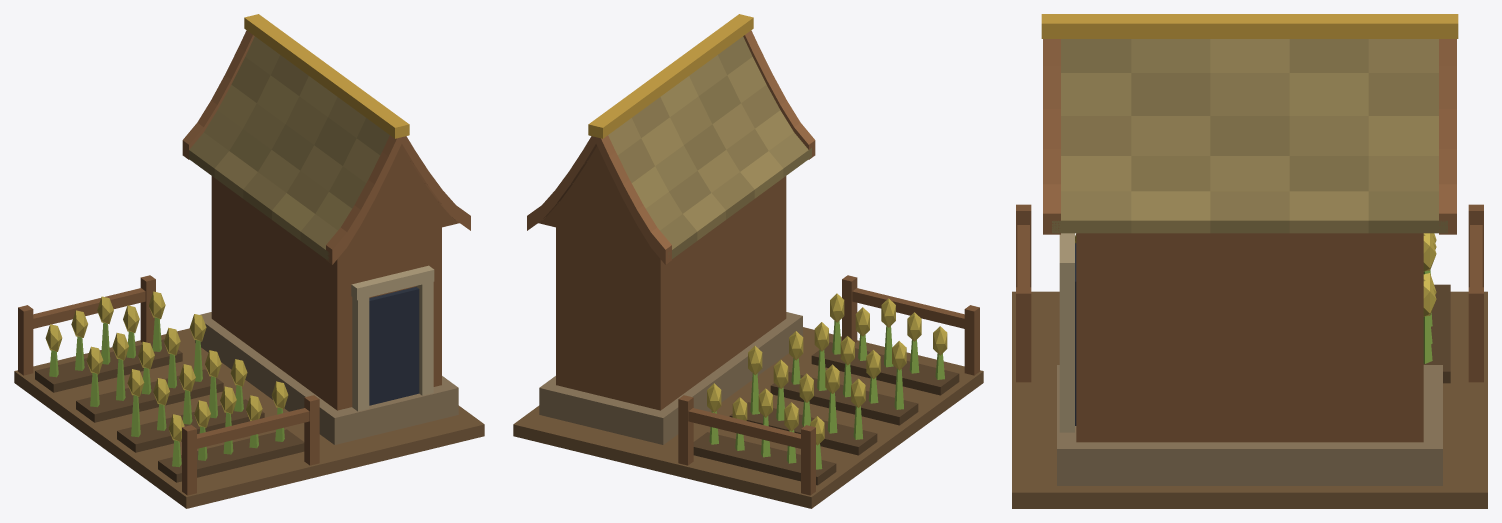
The model's file is farm_t1.glb.
3 renders of one model, left to right at view 1: azimuth 30°, elevation 25°; view 2: azimuth 150°, elevation 25°; view 3: azimuth 270°, elevation 25°, orthographic. The views are drawn at different scales.
Visible parts, largest first — view 1: body; view 2: body; view 3: body.
Part boxes in pixels (x1,y1,x2,y2): body: [14, 14, 484, 508]; body: [513, 14, 983, 508]; body: [1012, 14, 1487, 508].
Size of the model in its own units: 1.85 by 1.89 by 1.85.
